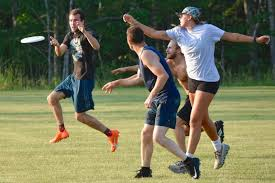disc: (19, 36, 46, 43)
